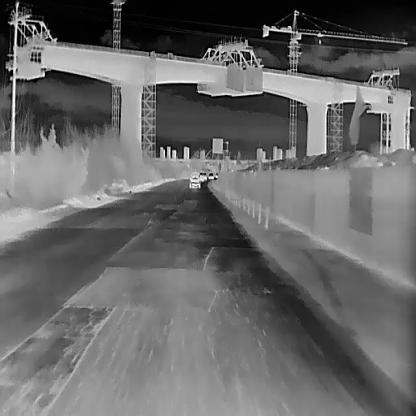car: (189, 172, 200, 188), (199, 172, 206, 180), (208, 172, 213, 179), (216, 172, 219, 178)
